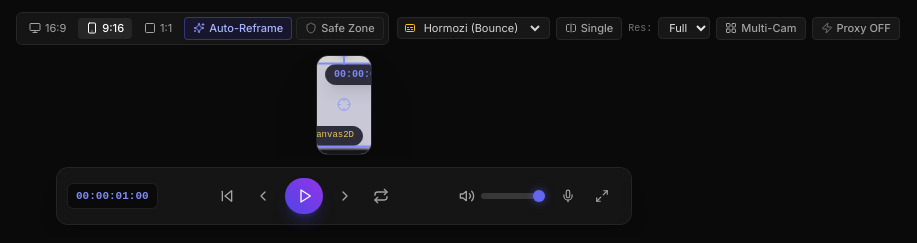
Scenario: Automatic Background Proxy Generation Engine (Task R14.3) › renders proxy toggle in ProgramMonitor and displays PROXY 720p badge when active
This screenshot has width=917, height=243.
Note: Turn Proxy ON
Click the button with test id "proxy-mode-toggle" at (856, 28), box [812,17,900,40]
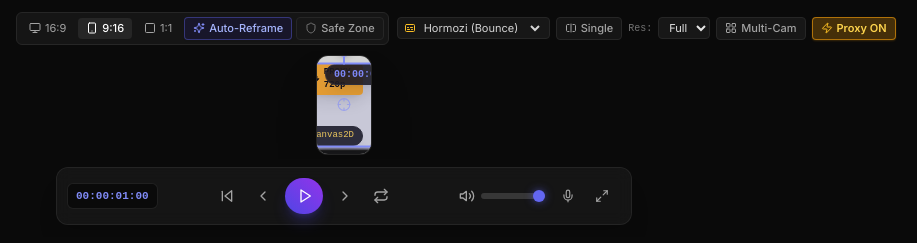
expect the button with test id "proxy-mode-toggle" reads "Proxy ON": met, box [812,17,896,40]
expect the element with test id "proxy-badge" is shown: met, box [316,64,363,94]
expect the element with test id "proxy-badge" reads "PROXY 720p": met, box [324,66,351,90]
